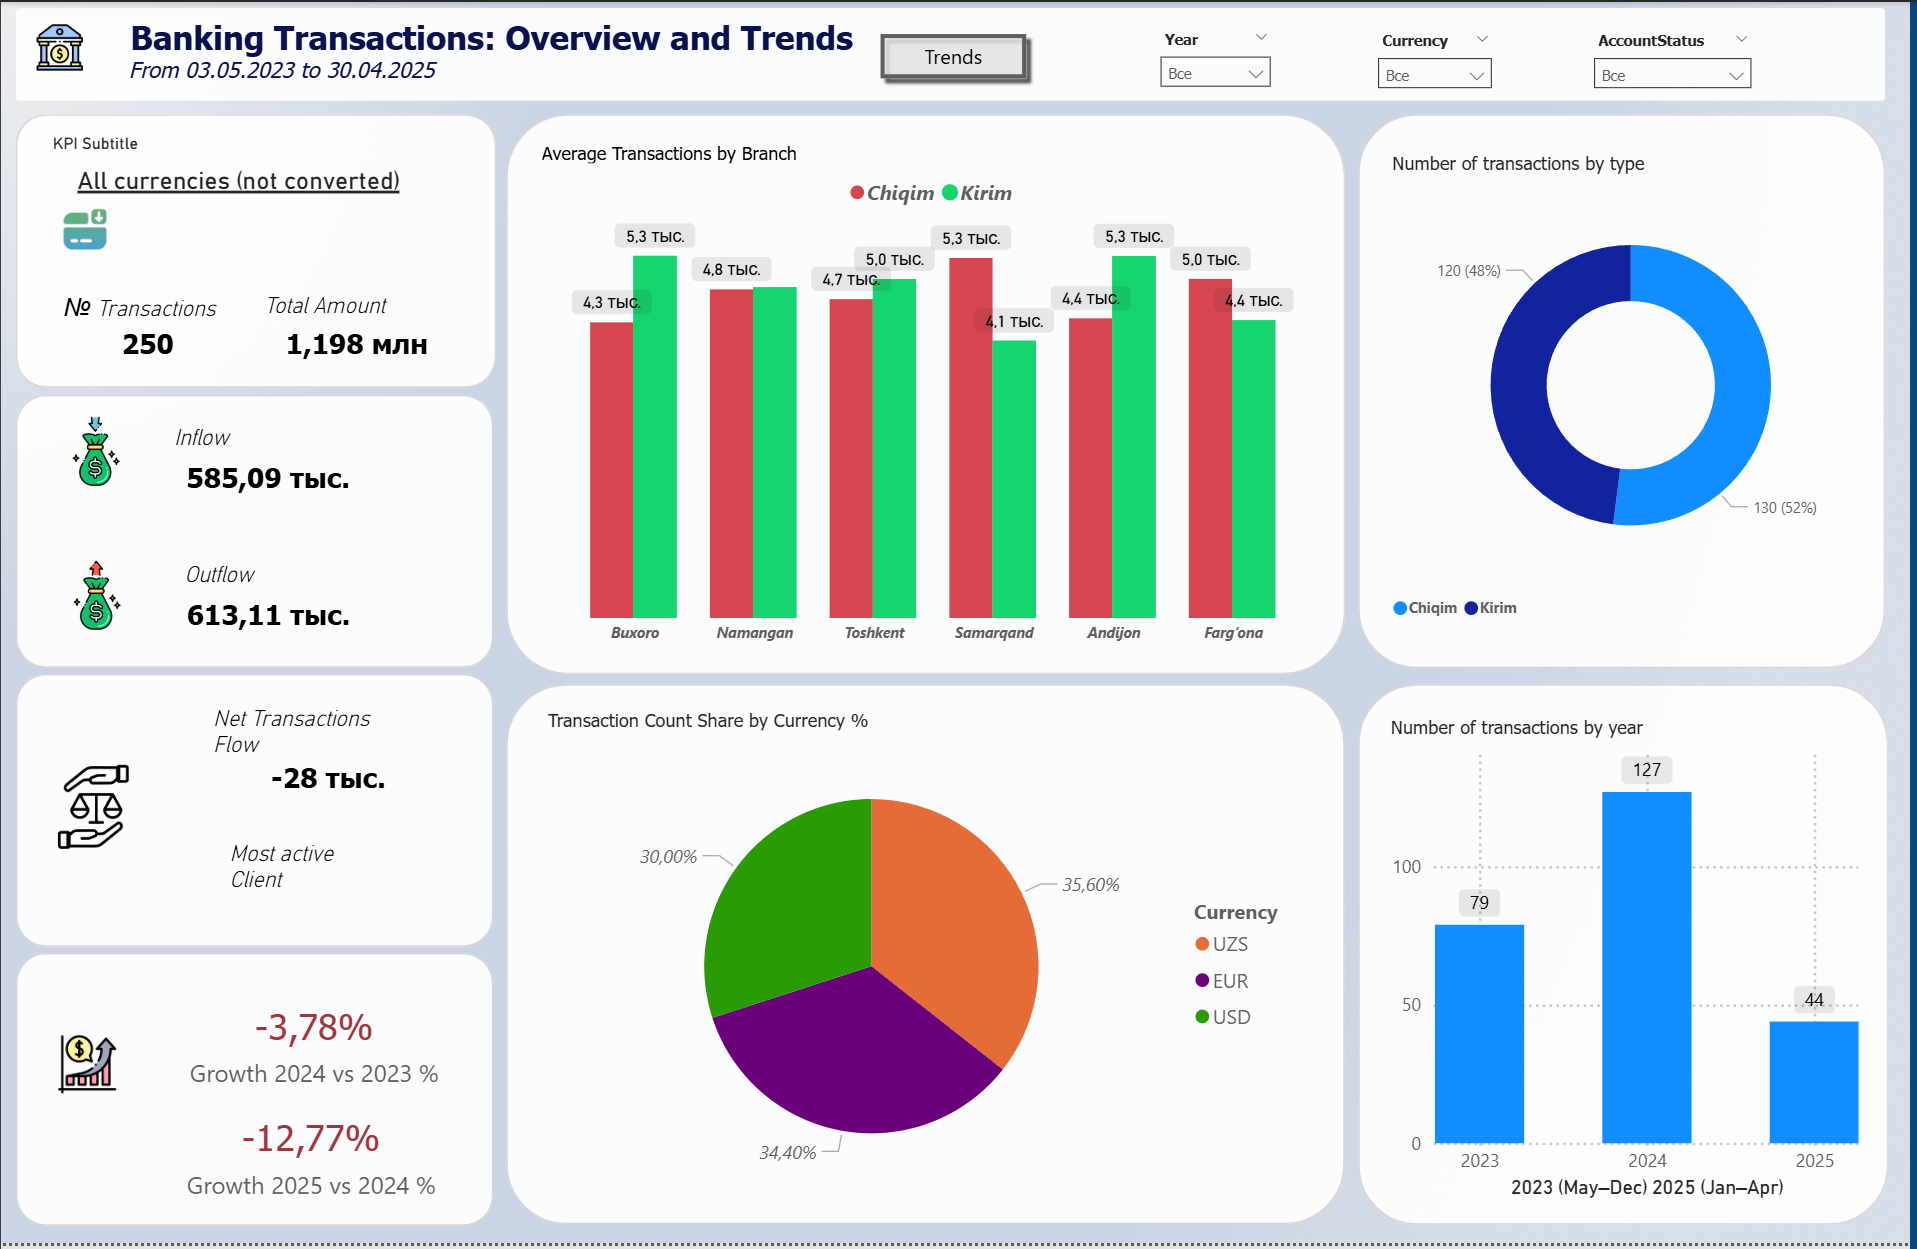

The page's visual inventory and layout, read from the dashboard file:
{"tool":"powerbi","page":{"name":"Overview","canvas":[1400,910],"ordinal":0},"visuals":[{"type":"group","id":"g1","title":"Группа 1","box":[11,4.4,1370.7,72.2],"z":0},{"type":"shape","box":[11,4.4,1370.7,68.2],"z":0,"group":"g1"},{"type":"shape","box":[11,82.5,352,200.2],"z":0,"group":"g2"},{"type":"shape","box":[370.7,82.5,614.9,410.3],"z":0,"group":"g6"},{"type":"shape","box":[995.6,82.5,386.1,405.9],"z":0,"group":"g9"},{"type":"shape","box":[11,288.2,350,200],"z":0,"group":"g3"},{"type":"shape","box":[11.5,492.3,350,200],"z":0,"group":"g4"},{"type":"shape","box":[370.7,500.5,614.6,395.7],"z":0,"group":"g7"},{"type":"shape","box":[995.6,500.5,388.3,396],"z":0,"group":"g8"},{"type":"shape","box":[11,697.4,350,200],"z":0,"group":"g5"},{"type":"actionButton","box":[638.2,16.9,120.8,46.5],"z":1000,"group":"g1"},{"type":"group","id":"g2","title":"Группа 2","box":[11,82.5,352,200.2],"z":1000},{"type":"clusteredColumnChart","title":"Average Transactions by Branch","fields":{"Category":["Transactions.Branch"],"Y":["Transactions.Average transaction"],"Series":["Transactions.TransactionType"]},"box":[391.2,102.4,585.1,377.1],"z":1000,"group":"g6"},{"type":"donutChart","title":"Number of transactions by type","fields":{"Category":["Bank.TransactionType"],"Y":["Transactions.NofT"]},"box":[1015,110.2,359.1,352],"z":1000,"group":"g9"},{"type":"card","title":"Total Amount","fields":{"Values":["Bank.Total amounts"]},"box":[188.1,211.9,145.1,60],"z":1000,"group":"g2"},{"type":"card","title":"Inflow","fields":{"Values":["Bank.Only receipts"]},"box":[121.9,308.7,147,62.7],"z":1000,"group":"g3"},{"type":"pieChart","title":"Transaction Count Share by Currency % ","fields":{"Category":["Transactions.Currency"],"Y":["Transactions.Transaction Count Share by Currency %"]},"box":[395.5,517.7,564.9,361.3],"z":1000,"group":"g7"},{"type":"columnChart","title":"Number of transactions by year","fields":{"Category":["DimDate.Year"],"Y":["Transactions.№Transactions"]},"box":[1014.5,523.7,353,358],"z":1000,"group":"g8"},{"type":"card","title":"Most active Client","fields":{"Values":["Bank.Most active client"]},"box":[163.5,612.8,153.2,56.6],"z":1000,"group":"g4"},{"type":"image","box":[35.2,752.4,56,52.8],"z":1000,"group":"g5"},{"type":"textbox","box":[73.7,10.6,579.7,66],"z":2000,"group":"g1"},{"type":"image","box":[37.5,142.7,50.1,49.4],"z":2000,"group":"g2"},{"type":"group","id":"g3","title":"Группа 3","box":[11,288.2,350,200],"z":2000},{"type":"image","box":[39,294.9,62.3,69.9],"z":2000,"group":"g3"},{"type":"card","title":"Net Transactions Flow","fields":{"Values":["Transactions.Net Transaction Flow"]},"box":[151,514,178.1,69.9],"z":2000,"group":"g4"},{"type":"card","fields":{"Values":["Transactions.Growth 2025 vs 2024 %"]},"box":[127.5,810.3,199.1,68.2],"z":2000,"group":"g5"},{"type":"image","box":[12.1,10.7,62.5,44.1],"z":3000,"group":"g1"},{"type":"card","title":"№ Transactions","fields":{"Values":["Transactions.NofT"]},"box":[40.8,213.9,133.3,58],"z":3000,"group":"g2"},{"type":"card","title":"Outflow","fields":{"Values":["Bank.Expenses only"]},"box":[129.3,408.7,132,62.7],"z":3000,"group":"g3"},{"type":"group","id":"g4","title":"Группа 4","box":[11.5,492.3,350,200],"z":3000},{"type":"image","box":[27,548.6,82.2,83.1],"z":3000,"group":"g4"},{"type":"card","fields":{"Values":["Transactions.Growth 2024 vs 2023 %"]},"box":[130.9,727.7,196.9,69.3],"z":3000,"group":"g5"},{"type":"slicer","fields":{"Values":["Bank.AccountStatus"]},"box":[1158.3,16.6,135.3,47.7],"z":4000,"group":"g1"},{"type":"card","title":"KPI Subtitle","fields":{"Values":["Transactions.KPI subtitle"]},"box":[33.3,97,281.6,53.8],"z":4000,"group":"g2"},{"type":"image","box":[39,403.3,63.5,62.7],"z":4000,"group":"g3"},{"type":"group","id":"g5","title":"Группа 5","box":[11,697.4,350,200],"z":4000},{"type":"slicer","fields":{"Values":["DimDate.Year"]},"box":[840.6,15.4,100.8,48.8],"z":5000,"group":"g1"},{"type":"group","id":"g6","title":"Группа 6","box":[370.7,82.5,614.9,410.3],"z":5000},{"type":"slicer","fields":{"Values":["Transactions.Currency"]},"box":[1000.1,16.6,103.4,47.7],"z":6000,"group":"g1"},{"type":"group","id":"g7","title":"Группа 7","box":[370.7,500.5,614.9,396],"z":6000},{"type":"group","id":"g8","title":"Группа 8","box":[995.6,500.5,388.3,396],"z":7000},{"type":"group","id":"g9","title":"Группа 9","box":[995.6,82.5,386.1,405.9],"z":8000}]}

Visuals, with their boxes in screenshot pixels (x1, y1, x2, y2), scaled from the page's 1400x910 canvas onto the 1917x1249 screenshot:
"Группа 1" group: 15/6/1892/105
shape: 15/6/1892/100
shape: 15/113/497/388
shape: 508/113/1350/676
shape: 1363/113/1892/670
shape: 15/396/494/670
shape: 16/676/495/950
shape: 508/687/1349/1230
shape: 1363/687/1895/1230
shape: 15/957/494/1232
actionButton: 874/23/1039/87
"Группа 2" group: 15/113/497/388
"Average Transactions by Branch" clusteredColumnChart: 536/141/1337/658
"Number of transactions by type" donutChart: 1390/151/1882/634
"Total Amount" card: 258/291/456/373
"Inflow" card: 167/424/368/510
"Transaction Count Share by Currency % " pieChart: 542/711/1315/1206
"Number of transactions by year" columnChart: 1389/719/1872/1210
"Most active Client" card: 224/841/434/919
image: 48/1033/125/1105
textbox: 101/15/895/105
image: 51/196/120/264
"Группа 3" group: 15/396/494/670
image: 53/405/139/501
"Net Transactions Flow" card: 207/705/451/801
card - Transactions.Growth 2025 vs 2024 %: 175/1112/447/1206
image: 17/15/102/75
"№ Transactions" card: 56/294/238/373
"Outflow" card: 177/561/358/647
"Группа 4" group: 16/676/495/950
image: 37/753/150/867
card - Transactions.Growth 2024 vs 2023 %: 179/999/449/1094
slicer - Bank.AccountStatus: 1586/23/1771/88
"KPI Subtitle" card: 46/133/431/207
image: 53/554/140/640
"Группа 5" group: 15/957/494/1232
slicer - DimDate.Year: 1151/21/1289/88
"Группа 6" group: 508/113/1350/676
slicer - Transactions.Currency: 1369/23/1511/88
"Группа 7" group: 508/687/1350/1230
"Группа 8" group: 1363/687/1895/1230
"Группа 9" group: 1363/113/1892/670
